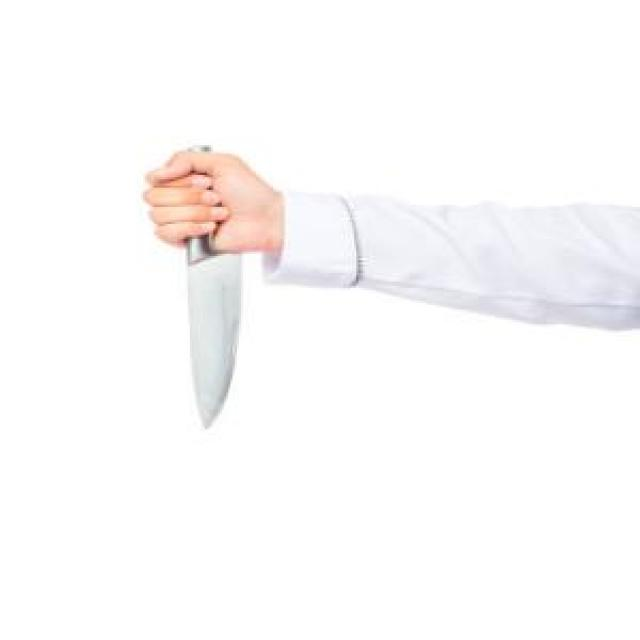knife: (166, 141, 246, 433)
